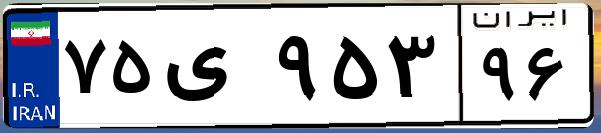3: (385, 28, 445, 110)
5: (330, 28, 385, 110), (110, 28, 158, 98)
6: (525, 38, 570, 115)
7: (57, 26, 110, 100)
9: (270, 28, 330, 110), (475, 38, 525, 113)
ی: (158, 20, 270, 120)
